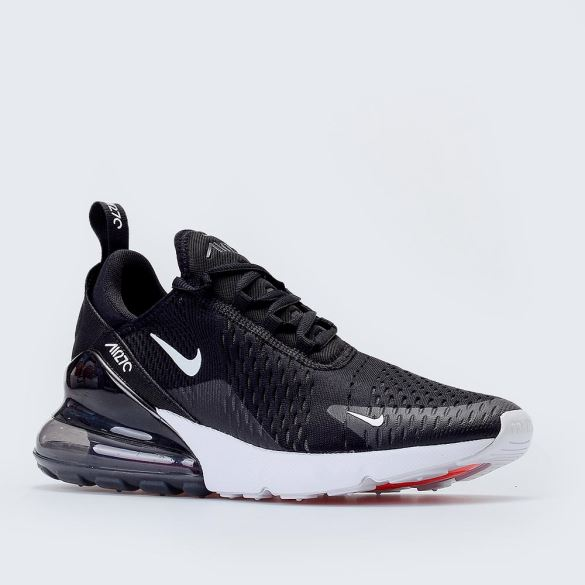nike: (146, 329, 207, 380), (338, 404, 386, 428)
